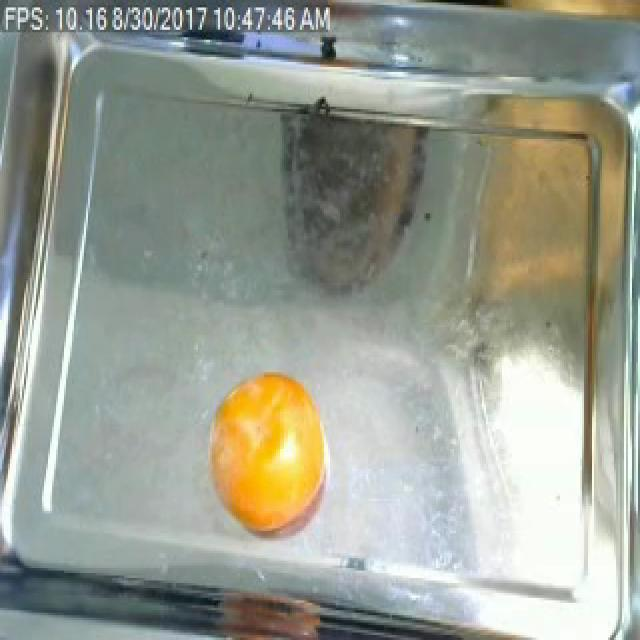Fruit: (456, 119, 610, 407), (206, 368, 330, 528)
